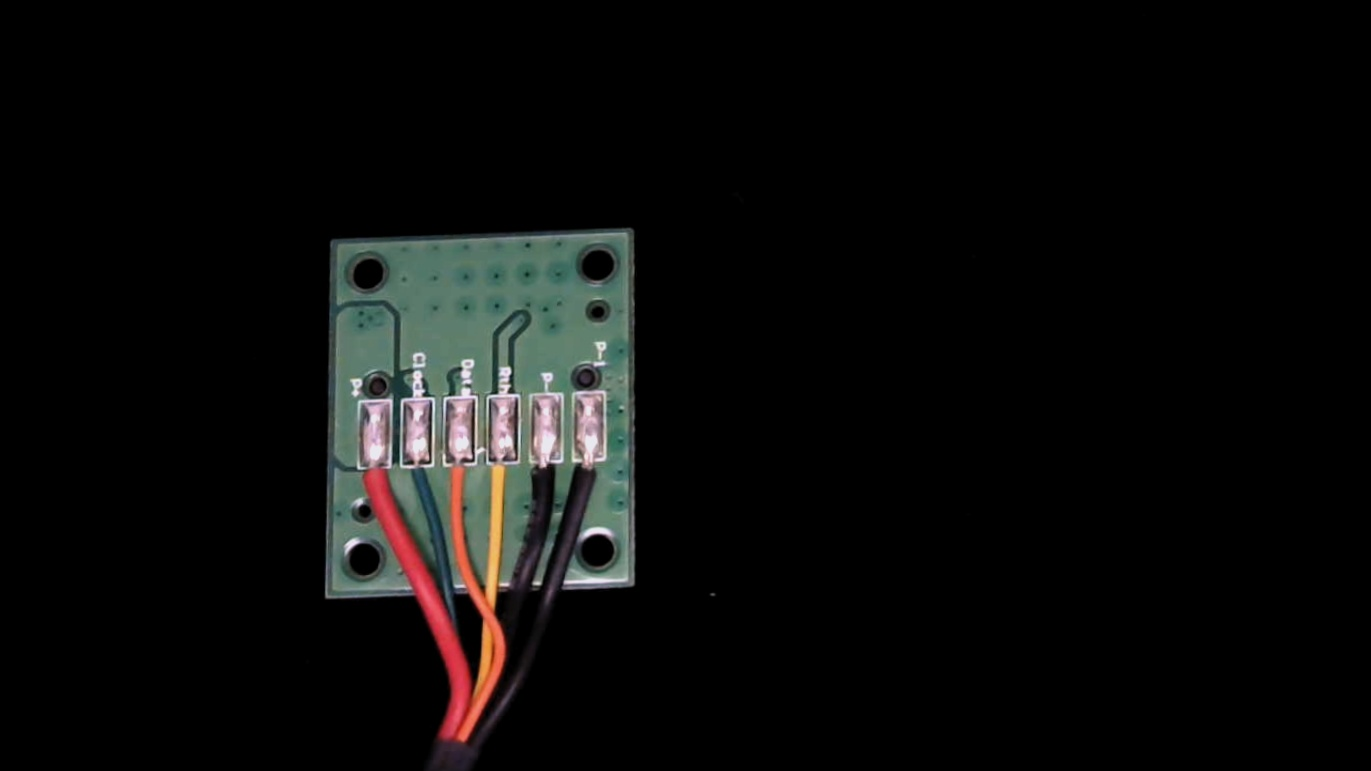Black: (528, 443, 563, 520)
Black1: (571, 445, 604, 509)
Green: (399, 446, 440, 522)
Orange: (442, 444, 481, 523)
Red: (355, 449, 396, 526)
Yellow: (486, 443, 520, 520)
